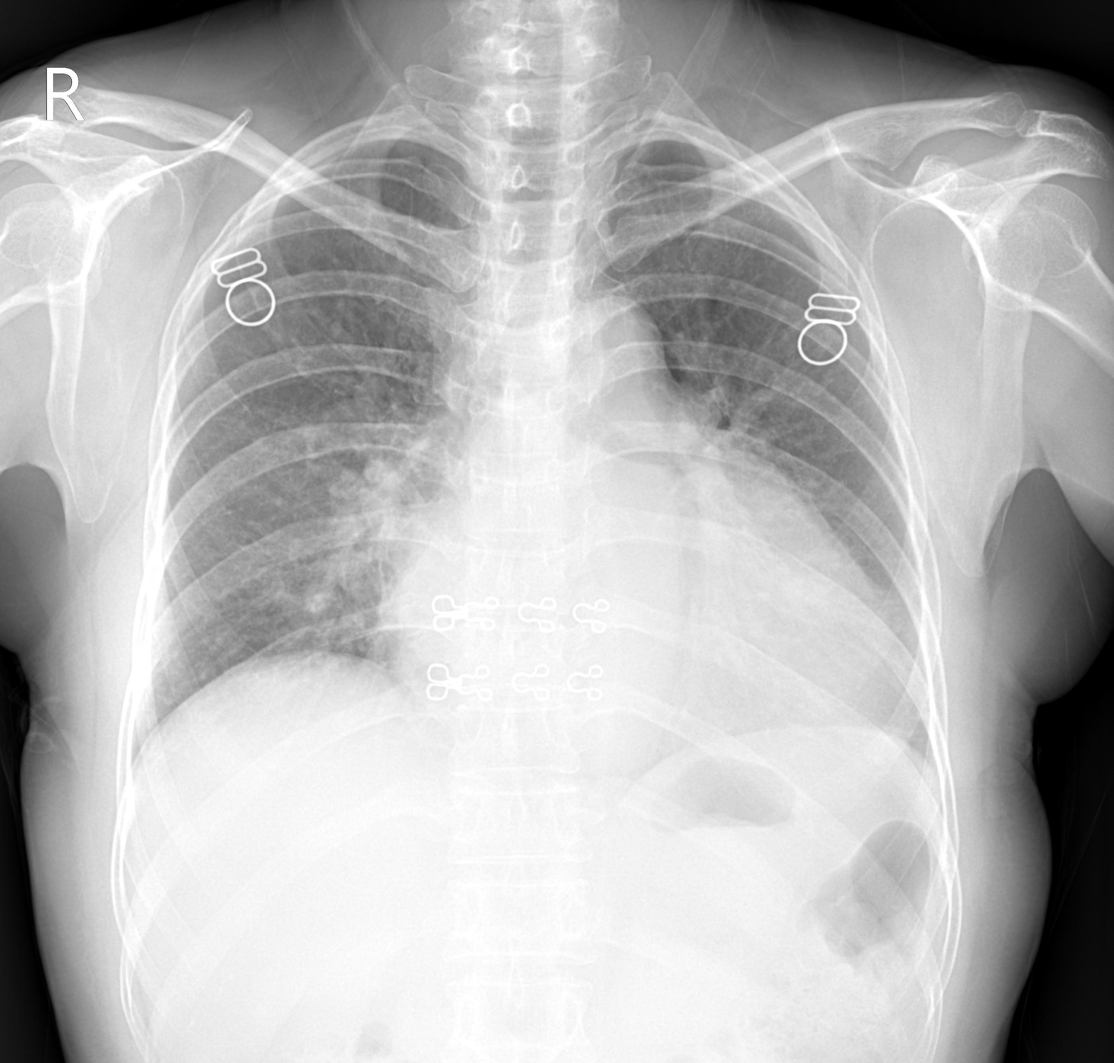Aortic enlargement: (544, 296, 664, 412)
Cardiomegaly: (373, 493, 909, 743)
